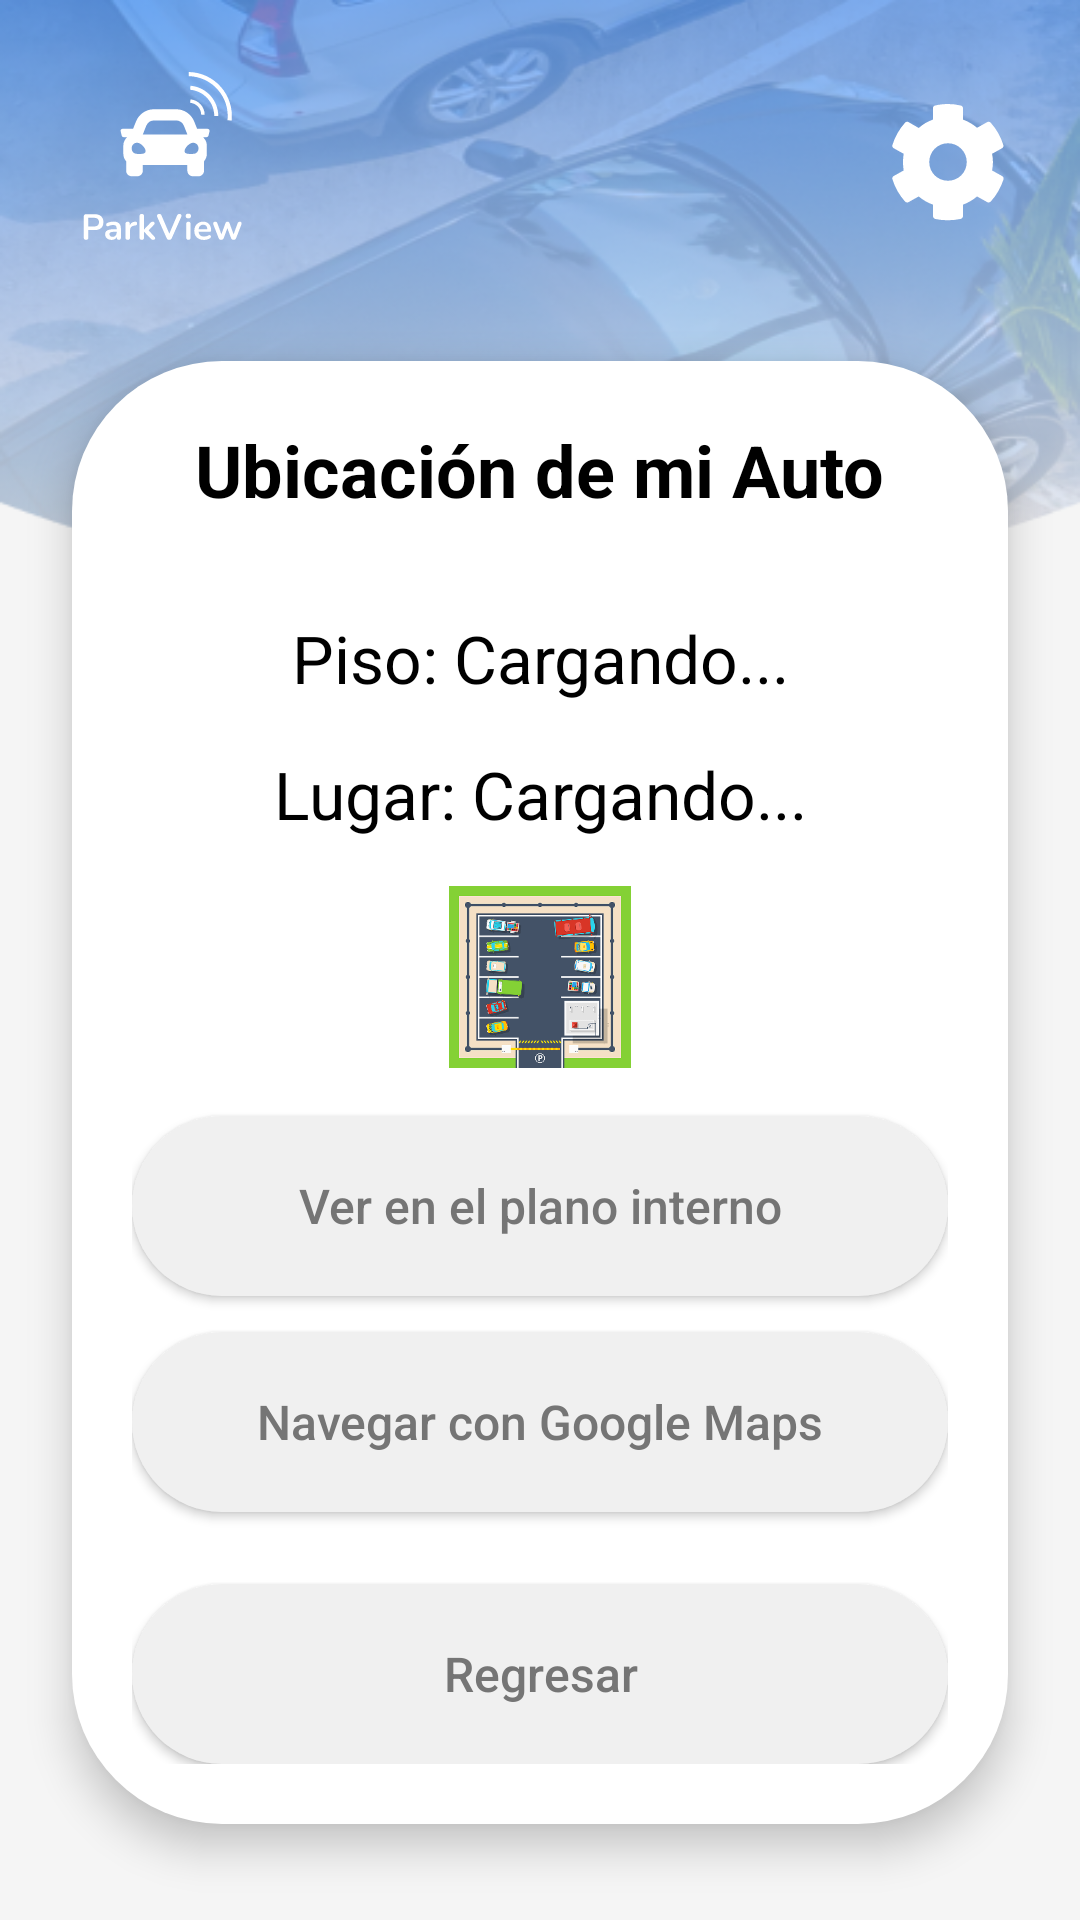

Icon bounding boxes for this 1080 × 1920 phone screenshot, format (x1, y1, x2, y2):
Ilustración de estacionamiento: (449, 886, 631, 1068)
settings: (888, 104, 1004, 221)
